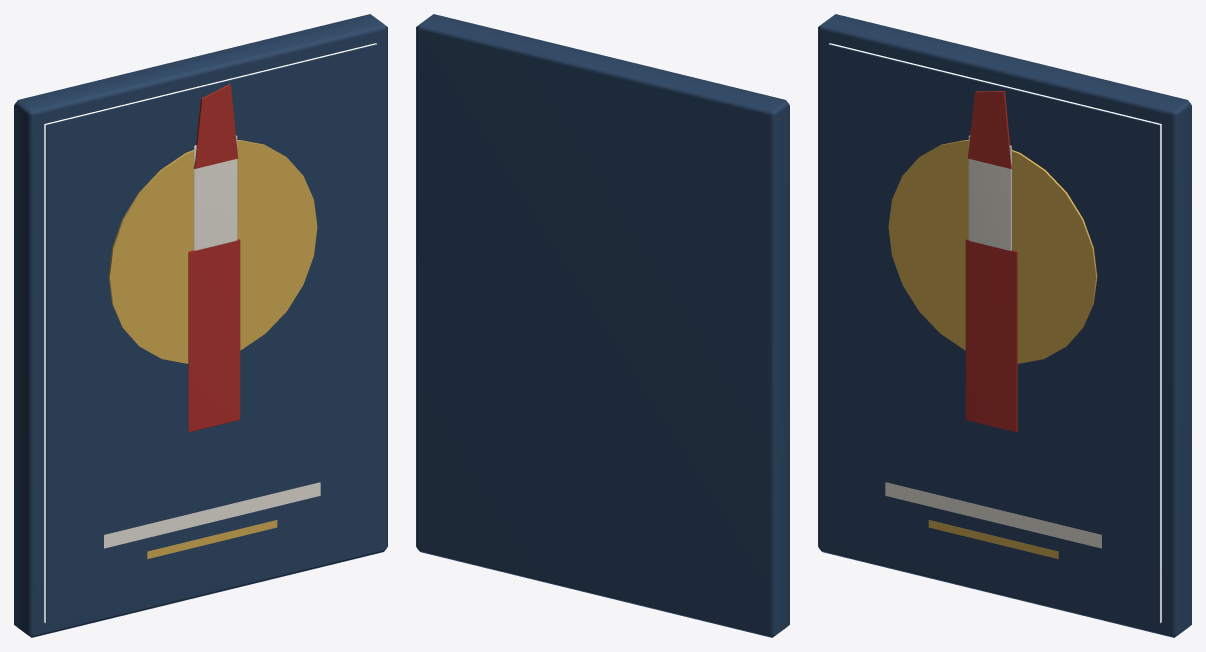
Rendered from ad_lines.glb.
The picture shows the model from 3 angles, left to right: view 1: azimuth 30°, elevation 25°; view 2: azimuth 150°, elevation 25°; view 3: azimuth 330°, elevation 25°; orthographic projection.
Visible parts, largest first — view 1: ad_lines; view 2: ad_lines; view 3: ad_lines.
Part boxes in pixels (left/top/right/bottom): ad_lines: left=14, top=14, right=387, bottom=637; ad_lines: left=416, top=14, right=789, bottom=637; ad_lines: left=818, top=14, right=1191, bottom=637.
Size of the model in its own units: 2.5 by 3.5 by 0.297.
